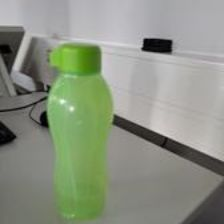bottle: (45, 39, 115, 218)
